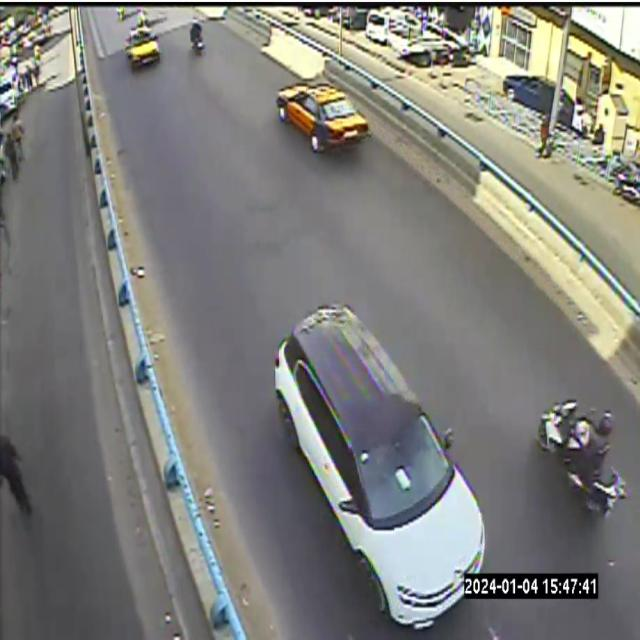car: (276, 84, 370, 152), (124, 27, 161, 72), (125, 29, 159, 68)
